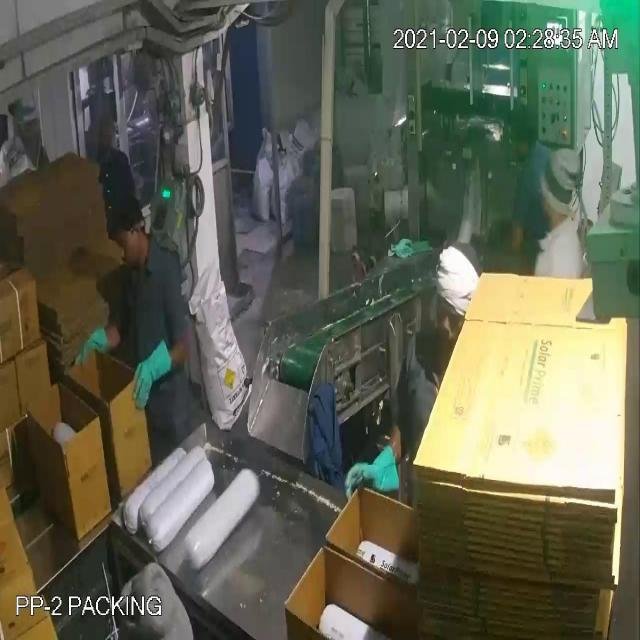Gloves: (44, 54, 370, 478)
